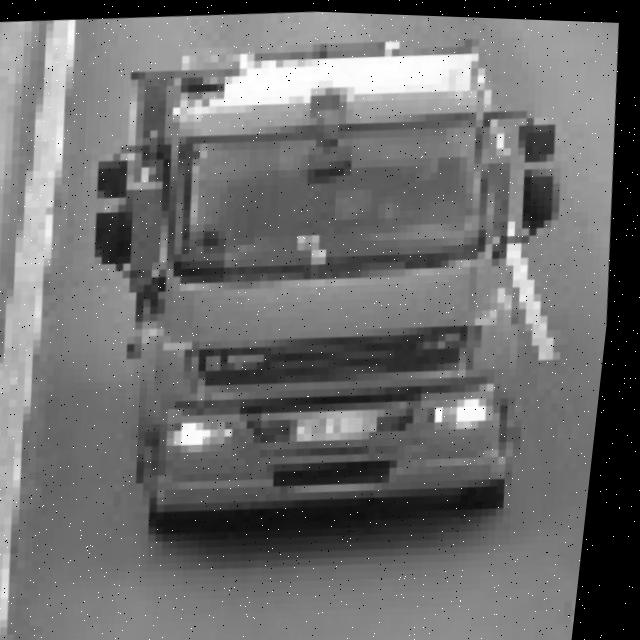truck: (68, 19, 610, 564)
